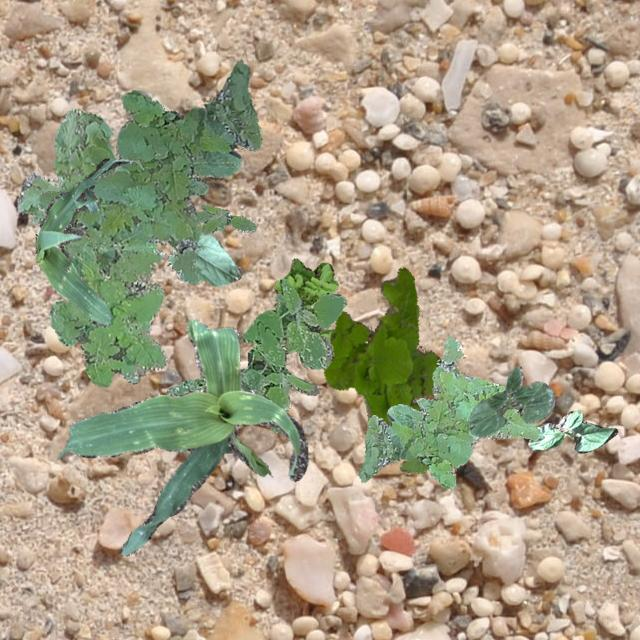crop: (58, 318, 306, 554), (33, 158, 141, 324), (469, 366, 554, 436), (167, 232, 240, 286), (528, 409, 616, 452), (118, 372, 138, 382)
weed: (36, 60, 260, 282), (16, 107, 166, 386), (166, 278, 346, 432), (358, 337, 540, 488), (322, 266, 440, 472), (274, 258, 338, 340), (194, 203, 256, 234)
